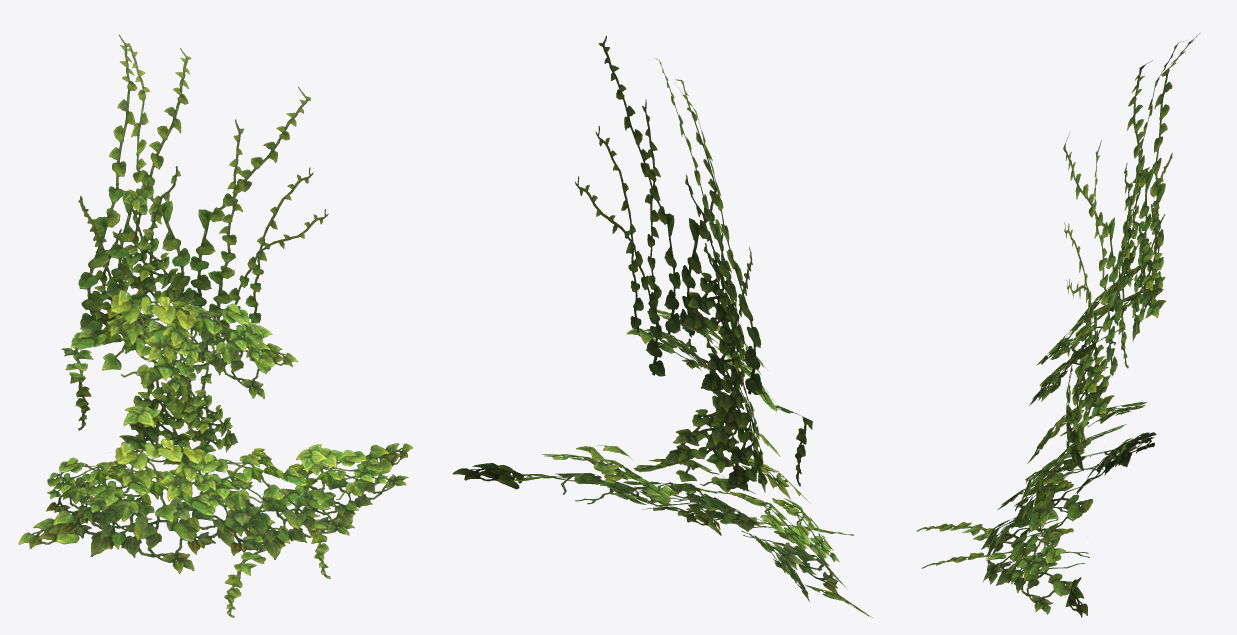
File: xl_tengtiao_1.FBX
The picture shows the model from 3 angles, left to right: view 1: azimuth 30°, elevation 25°; view 2: azimuth 150°, elevation 25°; view 3: azimuth 270°, elevation 25°; orthographic projection. The views are drawn at different scales.
Visible parts, largest first — view 1: xl_tengtiao_1; view 2: xl_tengtiao_1; view 3: xl_tengtiao_1.
Boxes of the visible parts, x1,y1,x2,y2 form: xl_tengtiao_1: (18,34,412,617); xl_tengtiao_1: (452,36,872,617); xl_tengtiao_1: (916,33,1199,617).
Bounding box in the file's own units: 2718 × 3360 × 1828.
